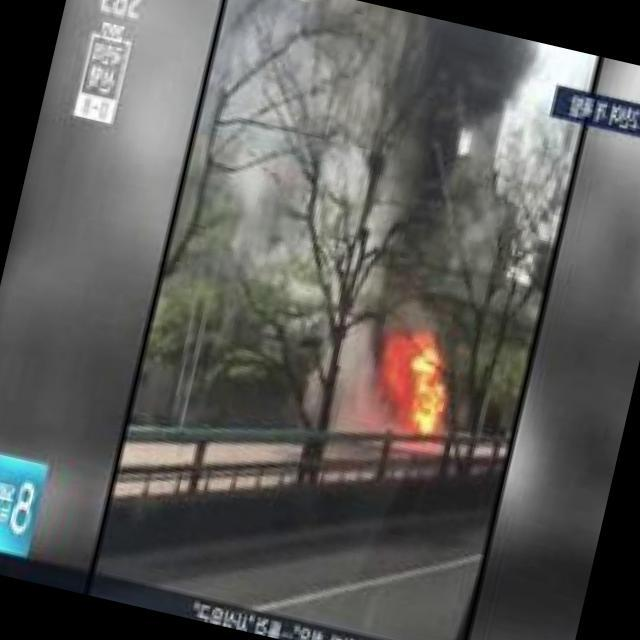Fire: (363, 321, 469, 451)
